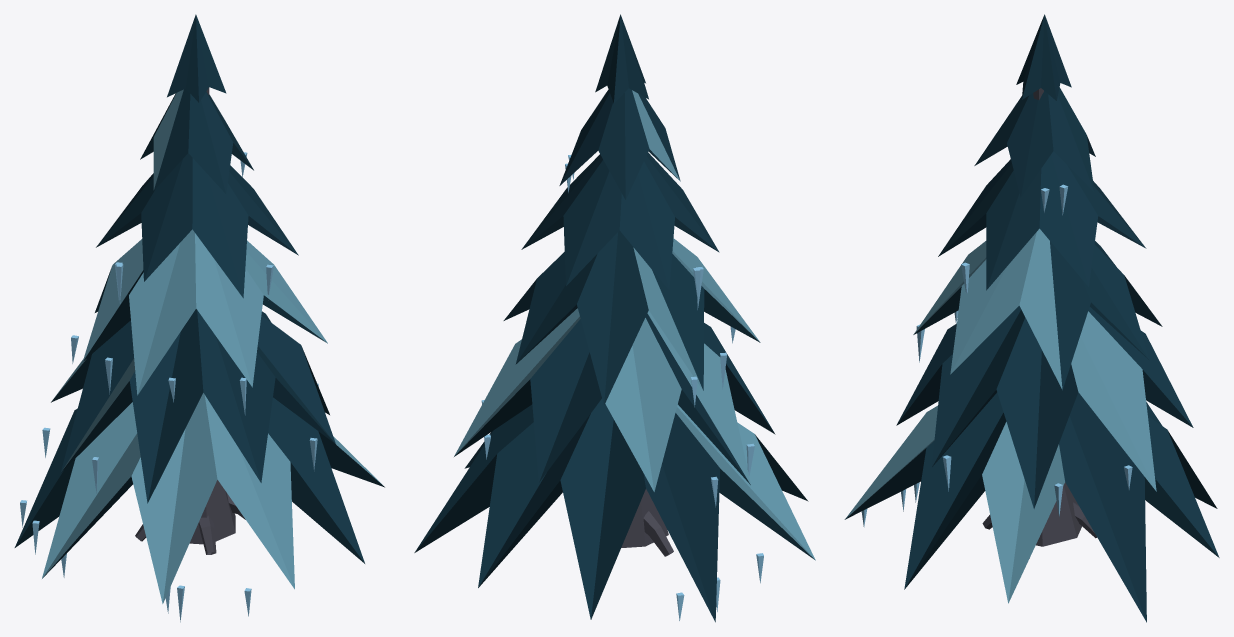
File: tree_frost.glb
3 views of the same model, side by side, from view 1: azimuth 30°, elevation 25°; view 2: azimuth 150°, elevation 25°; view 3: azimuth 270°, elevation 25° (orthographic).
Parts seen in each view (by area): view 1: TreeFrost; view 2: TreeFrost; view 3: TreeFrost.
Part boxes in pixels (box(x1,y1,x2,y2)): TreeFrost: box(14, 14, 384, 622); TreeFrost: box(414, 14, 815, 622); TreeFrost: box(844, 14, 1219, 622).
Size of the model in its own units: 4.03 by 5.99 by 3.77.
